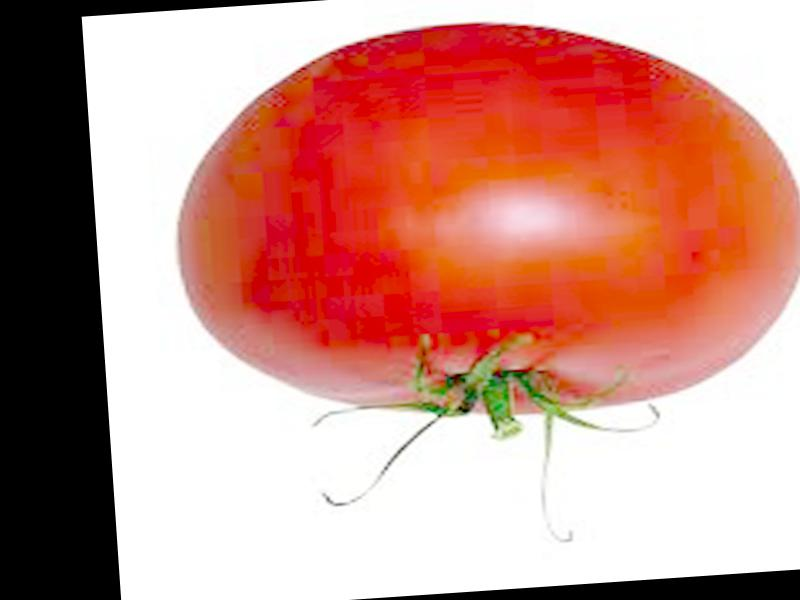Tomato: (165, 3, 800, 439)
